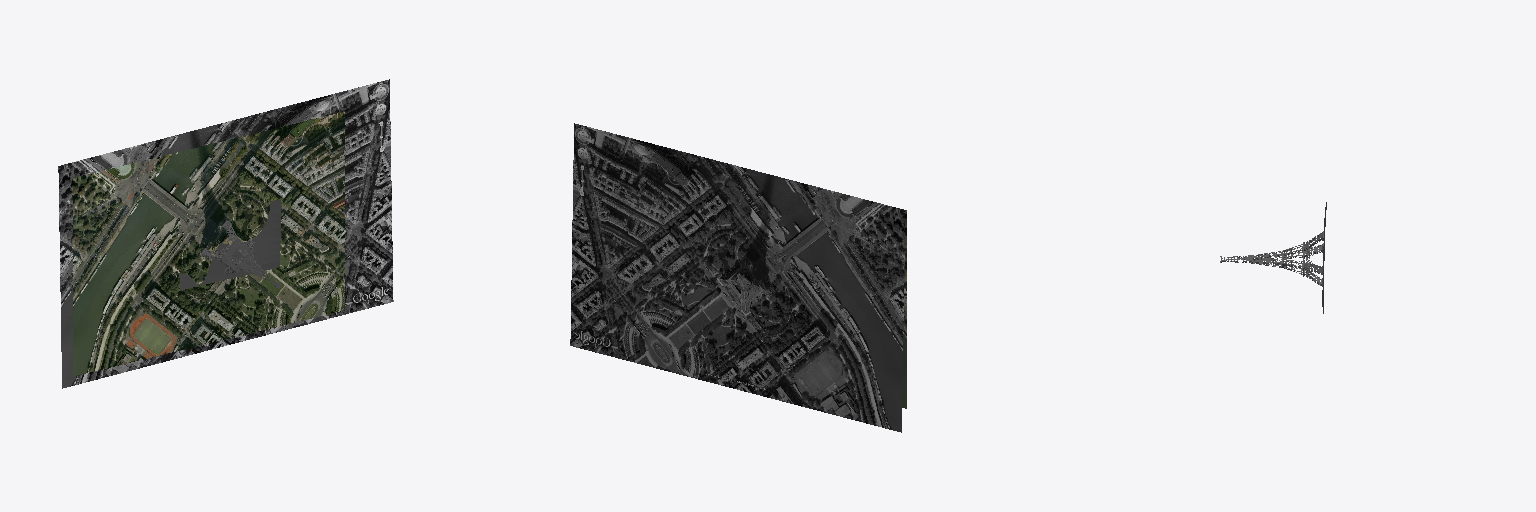
3 views of the same model, side by side, from view 1: azimuth 30°, elevation 25°; view 2: azimuth 150°, elevation 25°; view 3: azimuth 270°, elevation 25° (orthographic).
Visible parts, largest first — view 1: Eifeltoren, Google Earth Terrain, Google Earth Terrain_1, Tour_eiffel.dwg; view 2: Google Earth Terrain, Eifeltoren; view 3: Tour_eiffel.dwg.
Part boxes in pixels (bbox=[...]): Eifeltoren: bbox=[73, 112, 344, 376]; Google Earth Terrain: bbox=[58, 79, 393, 388]; Google Earth Terrain_1: bbox=[179, 200, 280, 289]; Tour_eiffel.dwg: bbox=[201, 220, 281, 288]; Google Earth Terrain: bbox=[570, 123, 905, 432]; Eifeltoren: bbox=[902, 209, 906, 408]; Tour_eiffel.dwg: bbox=[1220, 231, 1323, 286].
Bounding box in the file's own units: 38710 × 25347 × 12020.
4 materials, 2 textured.